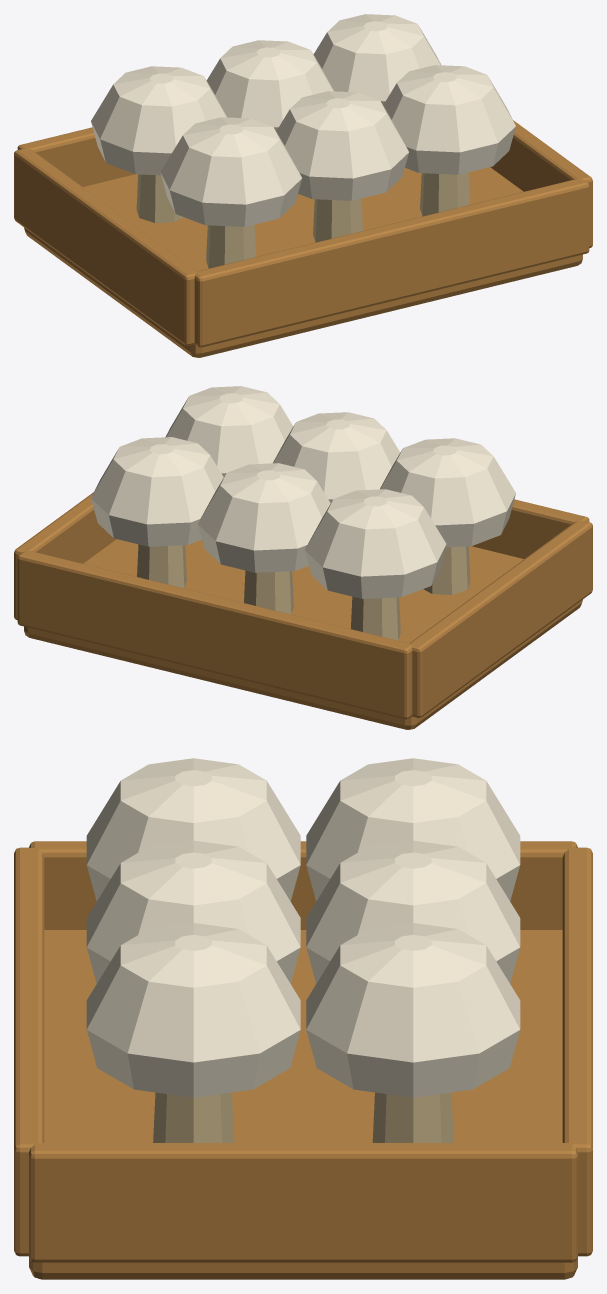
Rendered from mushrooms.fbx.
The picture shows the model from 3 angles, top to bottom: view 1: azimuth 30°, elevation 25°; view 2: azimuth 150°, elevation 25°; view 3: azimuth 270°, elevation 25°; orthographic projection. The views are drawn at different scales.
Visible parts, largest first — view 1: mushrooms; view 2: mushrooms; view 3: mushrooms.
Boxes of the visible parts, <box> form: mushrooms: <box>14,14,592,357</box>; mushrooms: <box>14,386,592,729</box>; mushrooms: <box>14,758,592,1279</box>.
Size of the model in its own units: 27.1 by 11 by 21.1.
